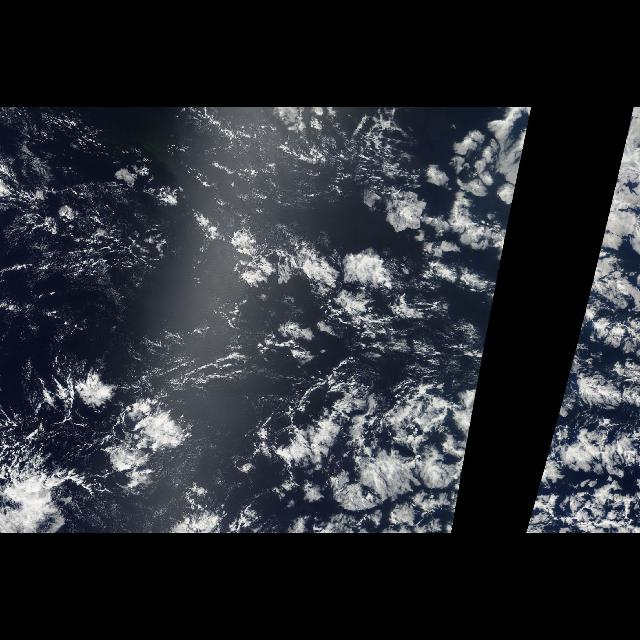Flower: (22, 234, 508, 532), (524, 234, 640, 532)
